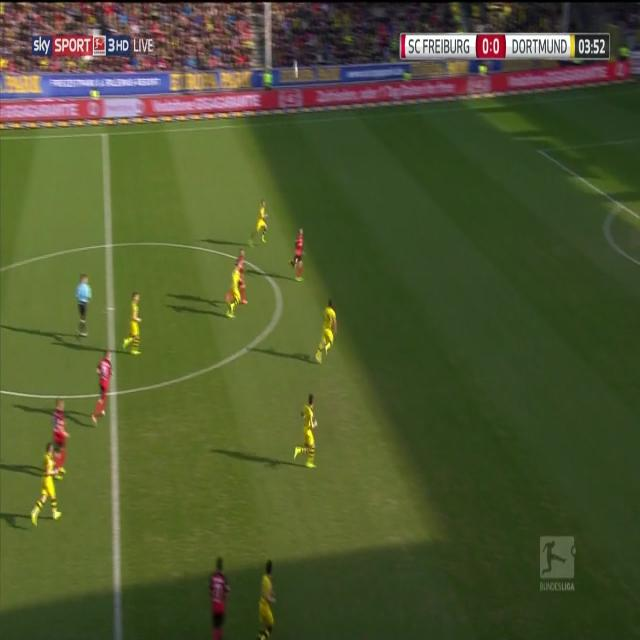Player: (28, 439, 63, 528), (291, 390, 319, 472), (254, 557, 281, 640), (312, 294, 338, 368), (90, 349, 114, 428), (208, 557, 230, 640), (51, 398, 71, 482), (121, 287, 144, 358), (288, 225, 308, 287), (249, 196, 271, 250), (224, 258, 241, 320), (237, 250, 248, 304)
Referee: (73, 272, 95, 343)
